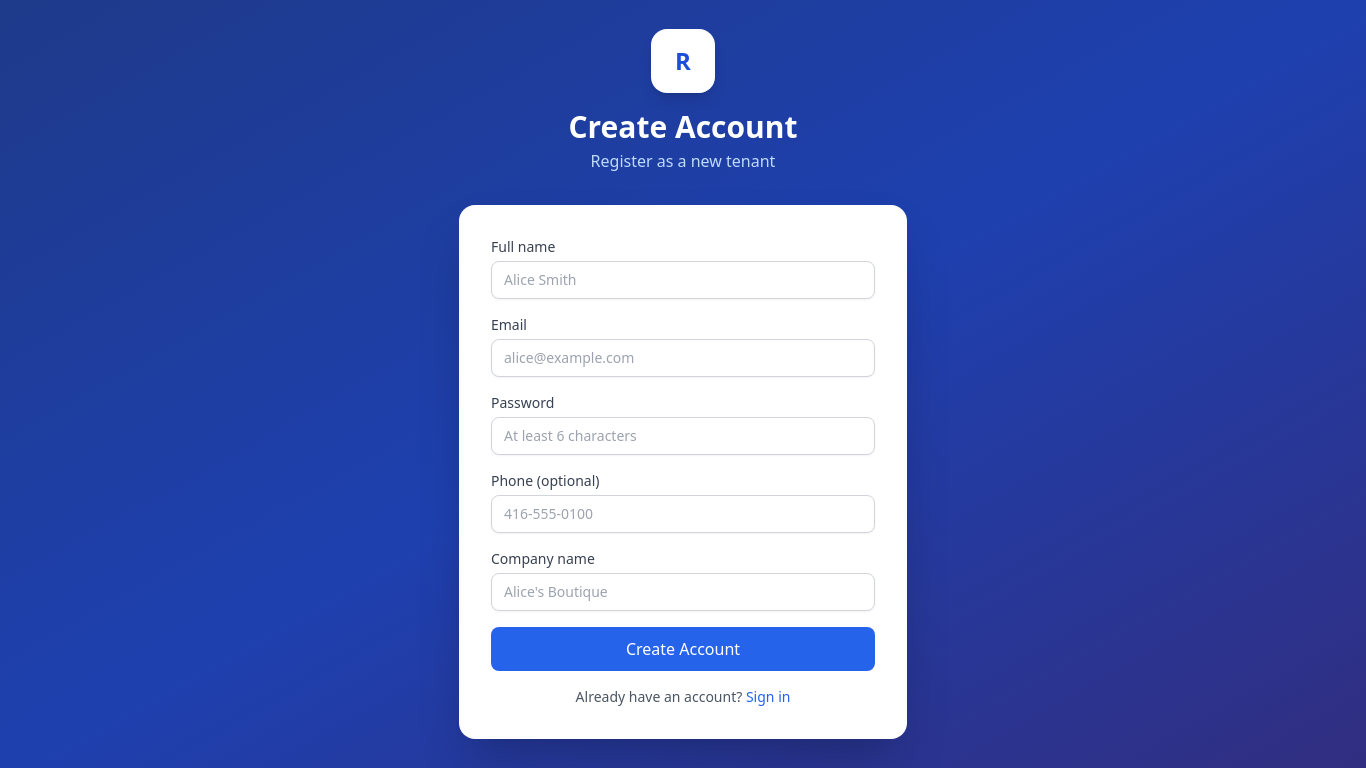
Scenario: TC-02: Register page › shows error banner when API returns an error
This screenshot has width=1366, height=768.
In the field with placeholder "Alice Smith": (683, 280) [491,261,875,299], type "Alice"
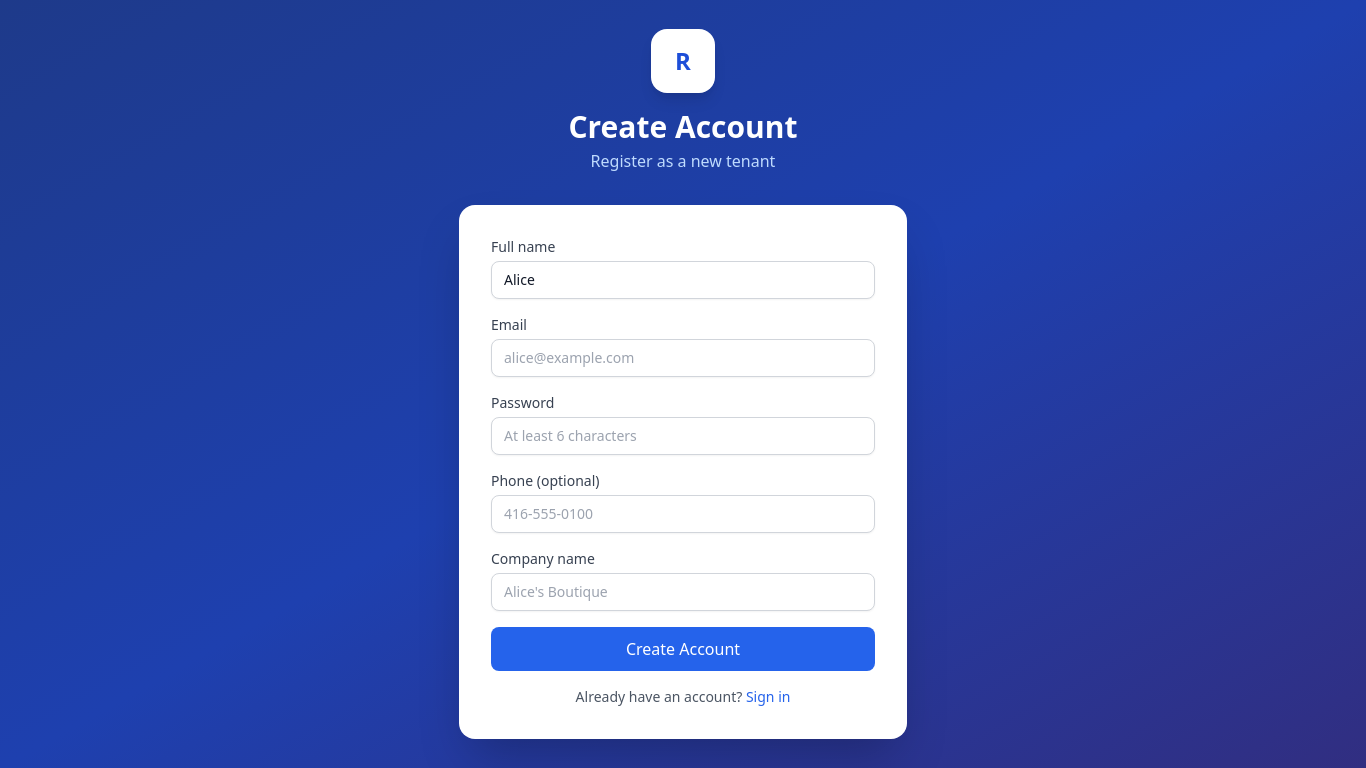
In the field with placeholder "alice@example.com": (683, 358) [491,339,875,377], type "alice@test.com"
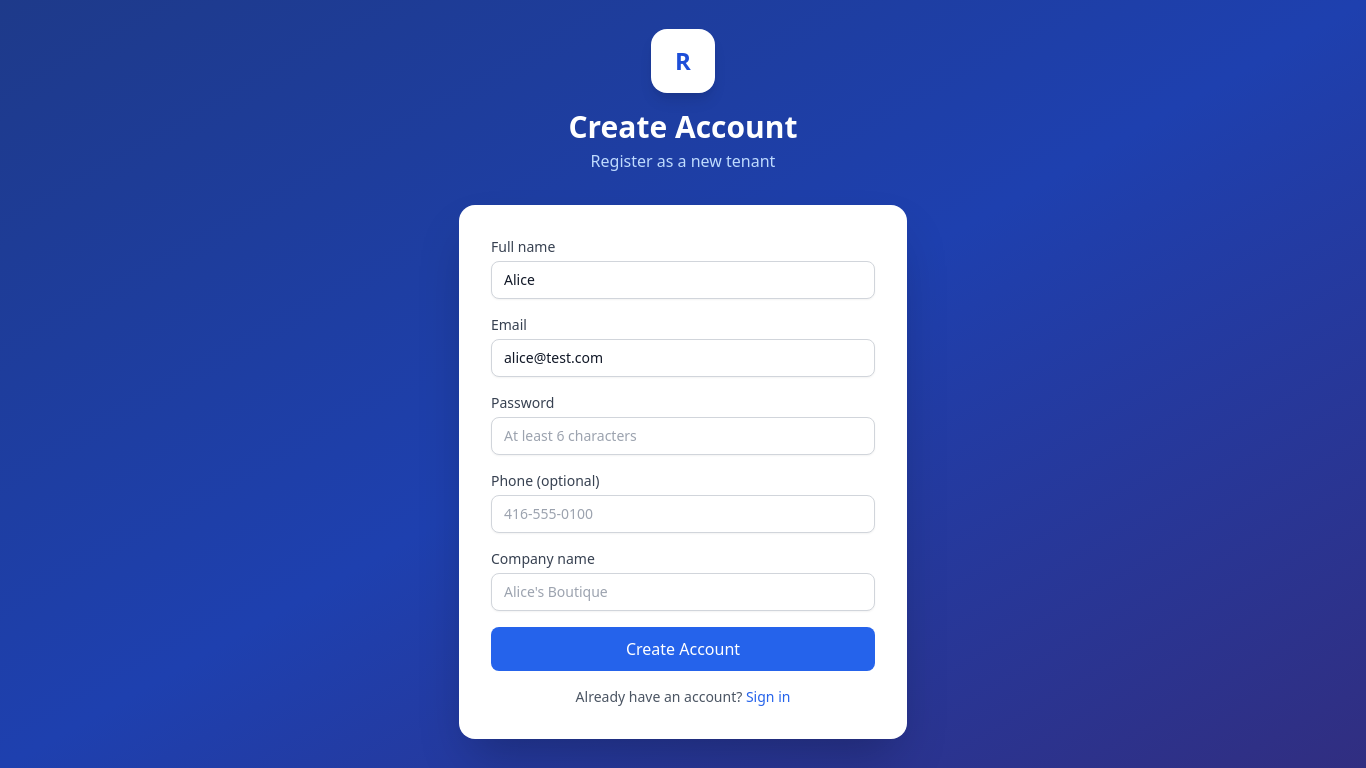
In the password field with placeholder "At least 6 characters": (683, 436) [491,417,875,455], type "pass123"
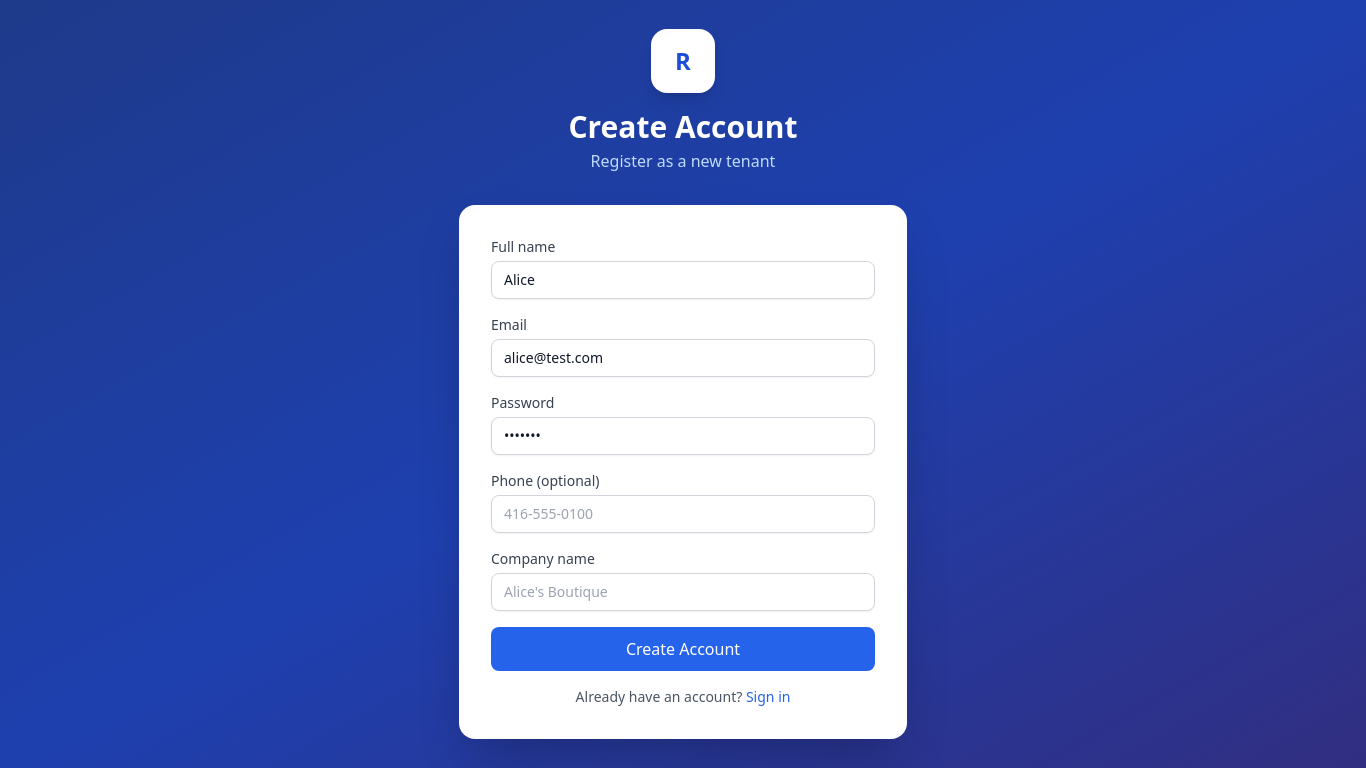
In the field with placeholder "Alice's Boutique": (683, 592) [491,573,875,611], type "Alice Co"
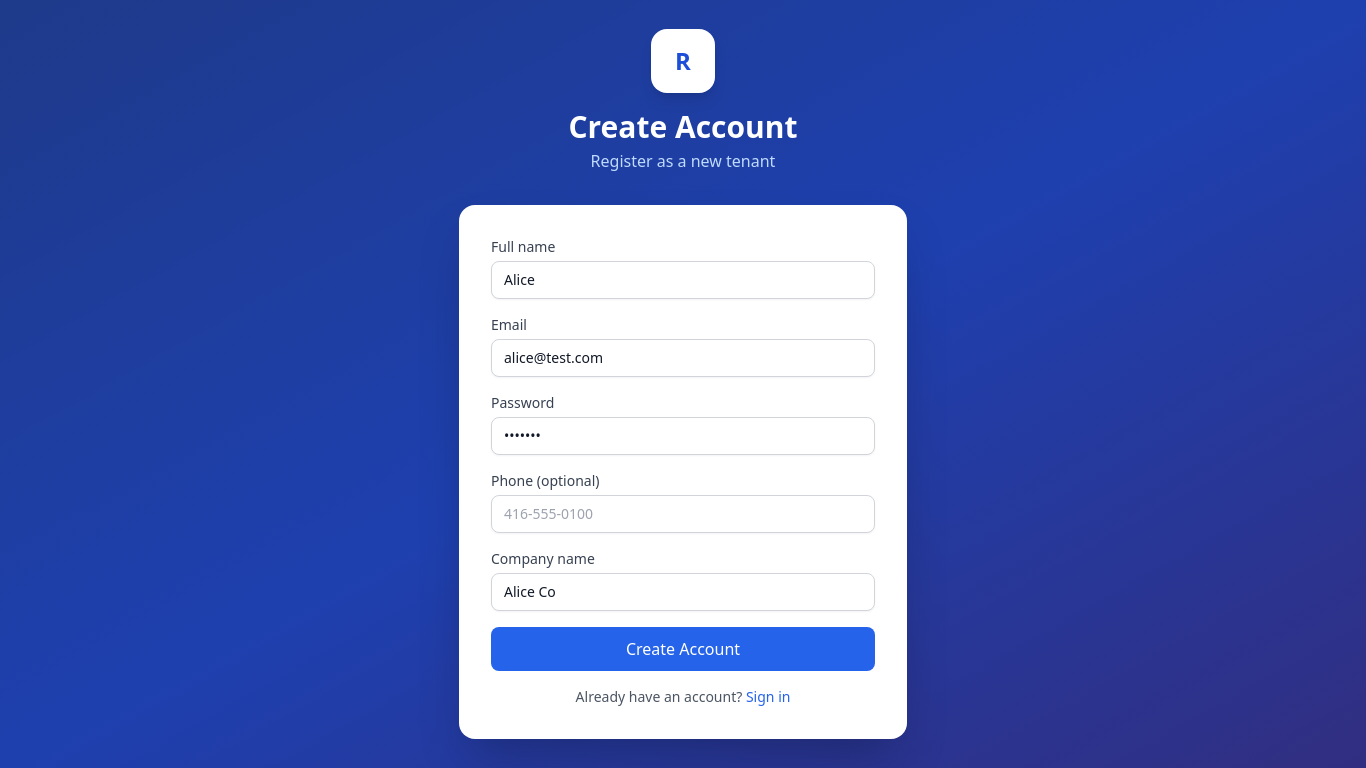
Click the button "Create Account": (683, 649) [491,627,875,671]
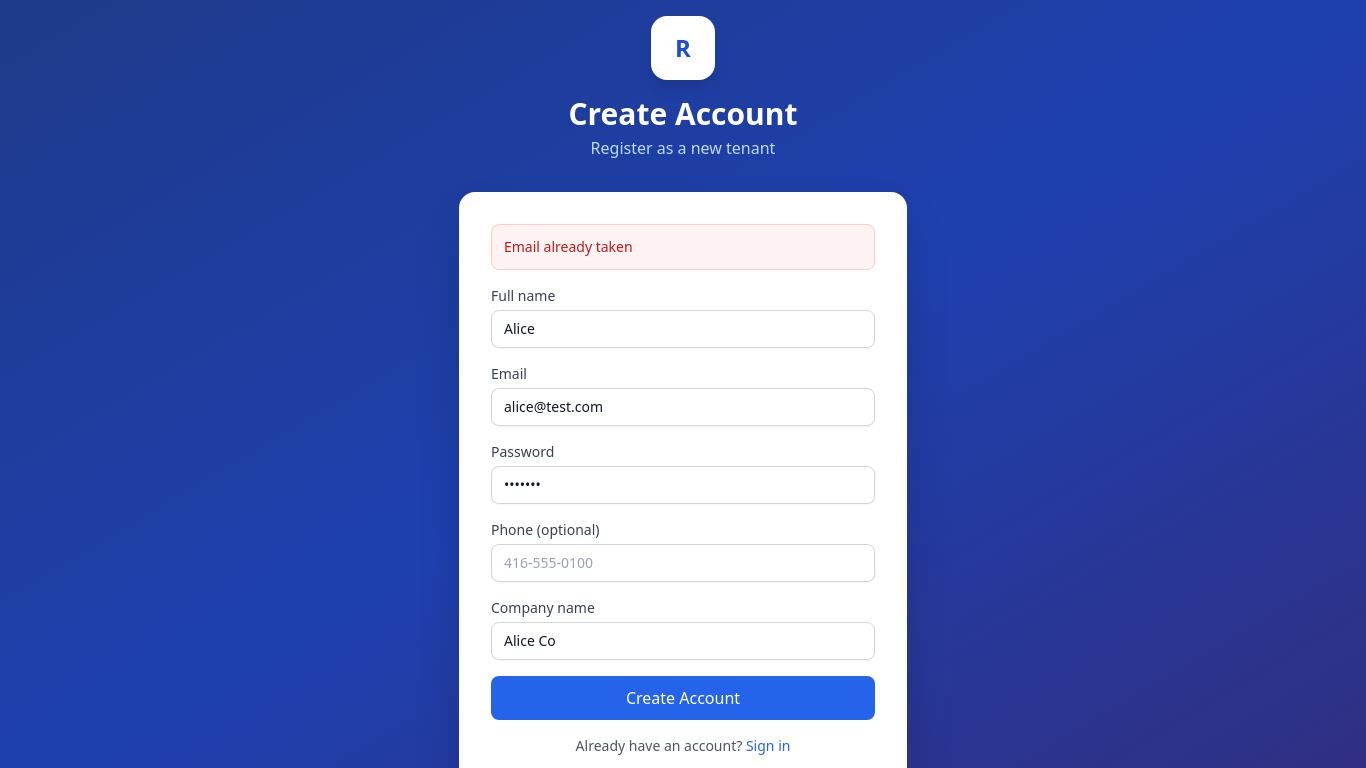
Expected: the text "Email already taken" is shown, [504,237,633,256]
